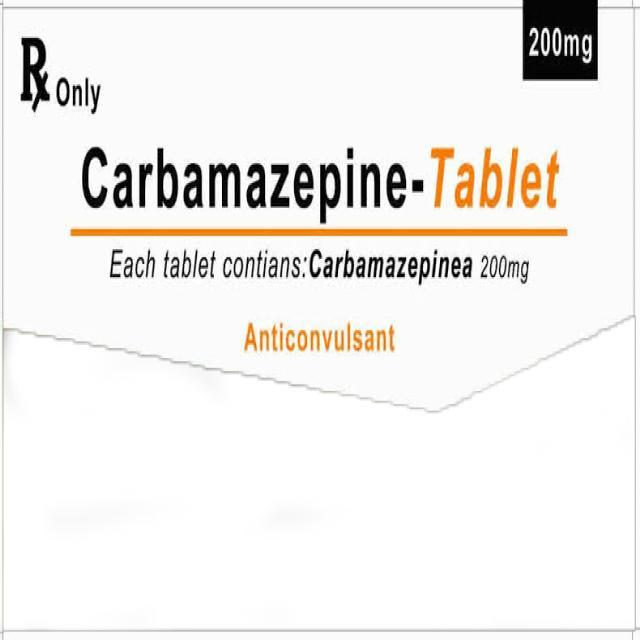drug-name: (76, 144, 570, 218)
